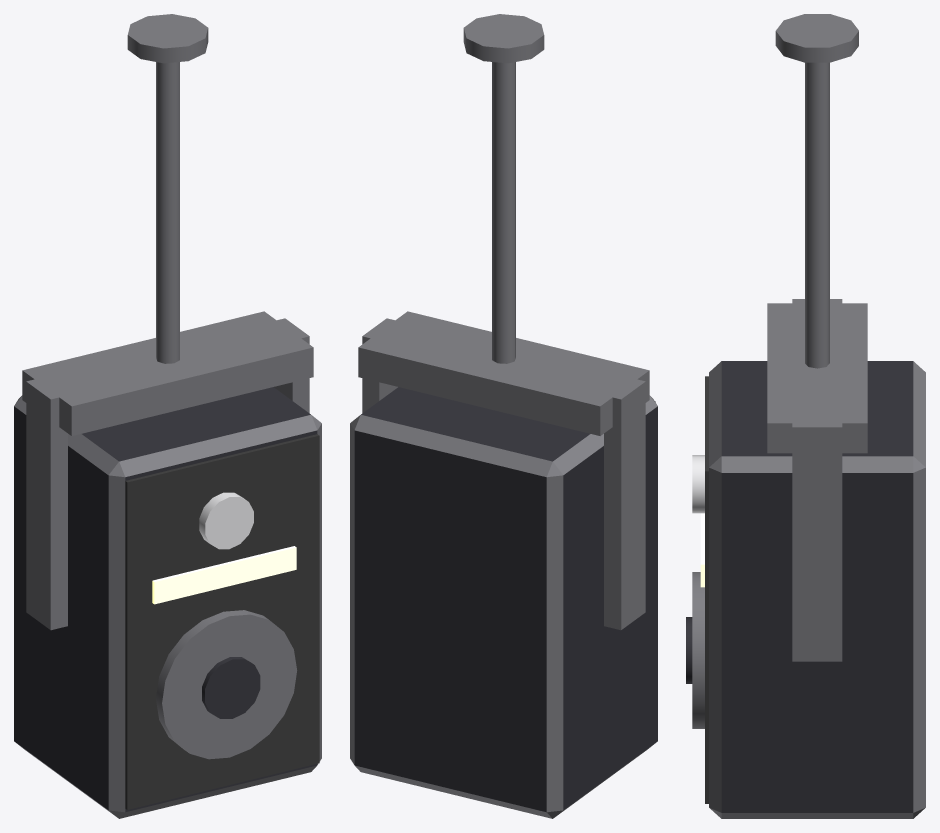
The model's file is SM_Speaker.fbx.
3 renders of one model, left to right at view 1: azimuth 30°, elevation 25°; view 2: azimuth 150°, elevation 25°; view 3: azimuth 270°, elevation 25°, orthographic.
Parts seen in each view (by area): view 1: SM_Speaker; view 2: SM_Speaker; view 3: SM_Speaker.
Part boxes in pixels (x1,y1,x2,y2): SM_Speaker: (14, 14, 321, 818); SM_Speaker: (350, 14, 657, 818); SM_Speaker: (686, 14, 925, 818).
Bounding box in the file's own units: 0.364 × 0.98 × 0.2875.
